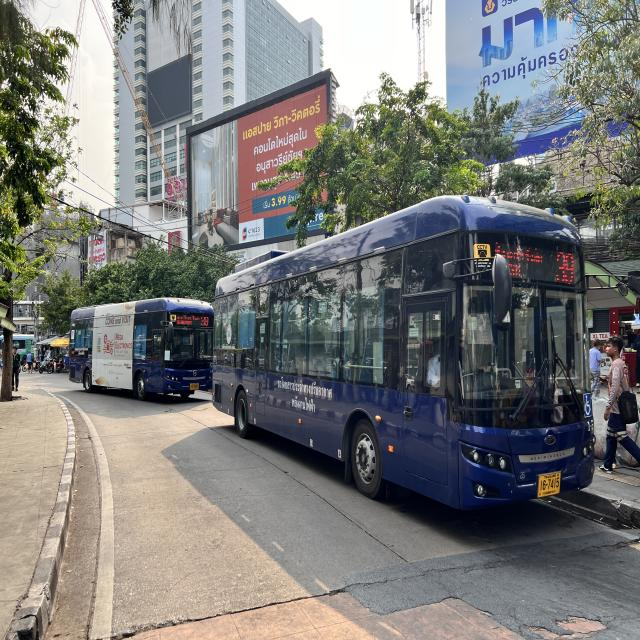Bus-Line-Number: (554, 247, 578, 287), (200, 316, 210, 326)
Destination-Sign-Normal: (492, 240, 546, 280), (175, 314, 200, 326)
TSB-Bus: (209, 182, 600, 517), (65, 295, 219, 405)
